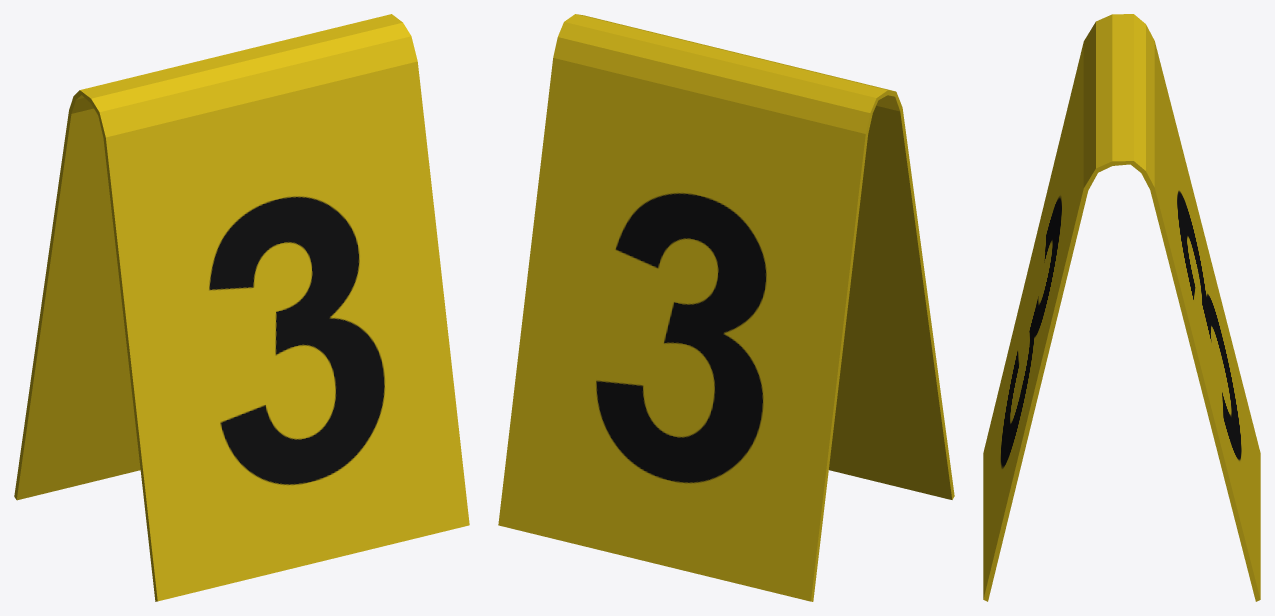
The model's file is ClueSign 3 NEW.fbx.
3 renders of one model, left to right at view 1: azimuth 30°, elevation 25°; view 2: azimuth 150°, elevation 25°; view 3: azimuth 270°, elevation 25°, orthographic. The views are drawn at different scales.
Parts seen in each view (by area): view 1: ClueSign 3; view 2: ClueSign 3; view 3: ClueSign 3.
Part boxes in pixels (bbox=[...]): ClueSign 3: bbox=[14, 14, 469, 601]; ClueSign 3: bbox=[498, 14, 954, 601]; ClueSign 3: bbox=[983, 14, 1260, 601].
Size of the model in its own units: 126 by 177 by 101.
